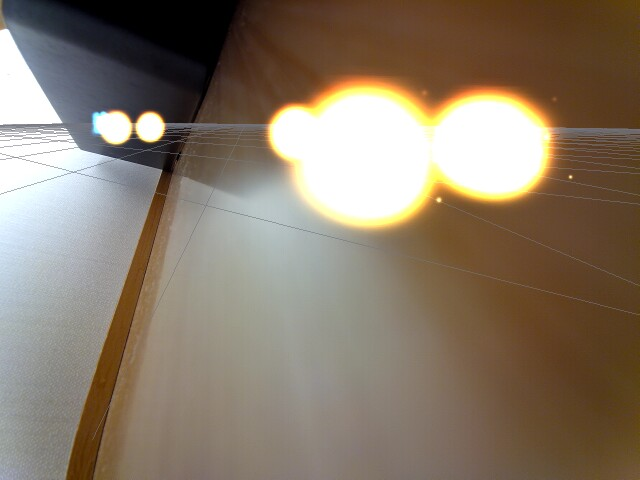firebig: (181, 43, 561, 243)
